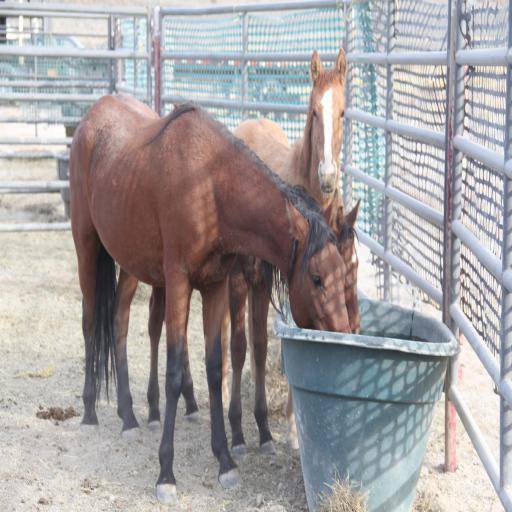Horse: (69, 98, 352, 510), (146, 198, 361, 460), (219, 46, 345, 448)
